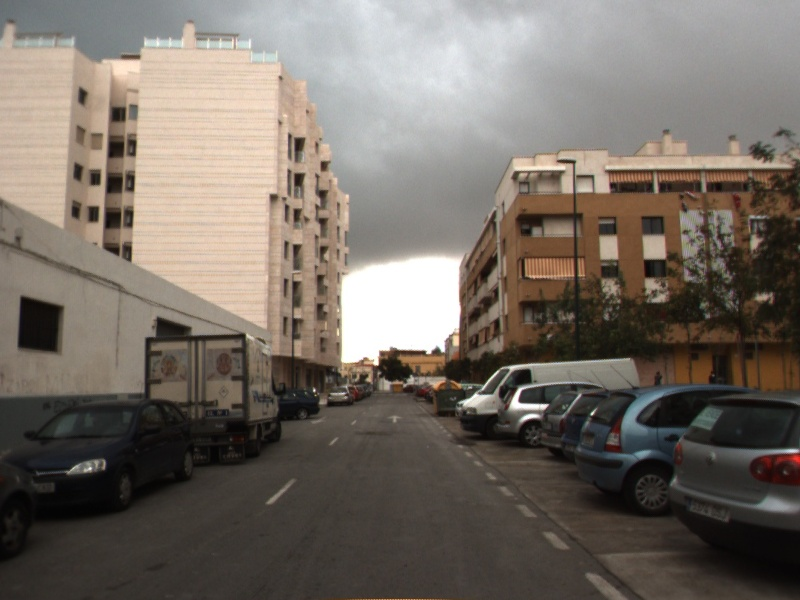STRAIGHT: (385, 413, 406, 425)
